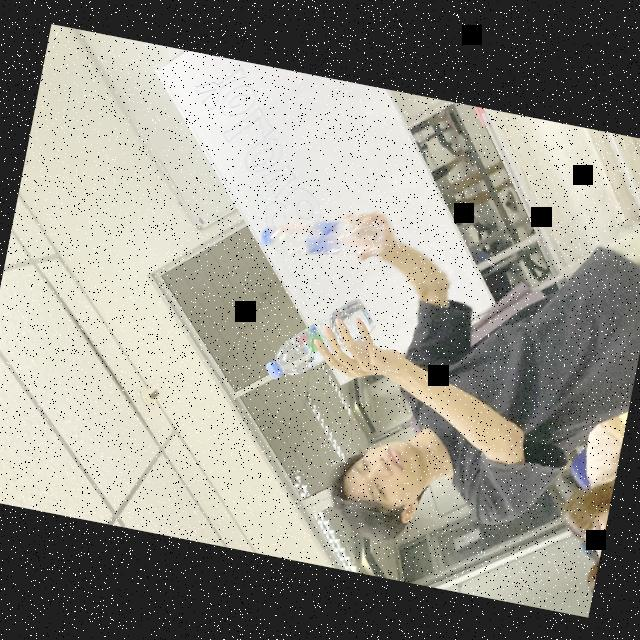plastic_bottle: (263, 284, 380, 396), (259, 195, 392, 274)
plastic_bottle_cap: (264, 360, 284, 380), (260, 224, 276, 247)
